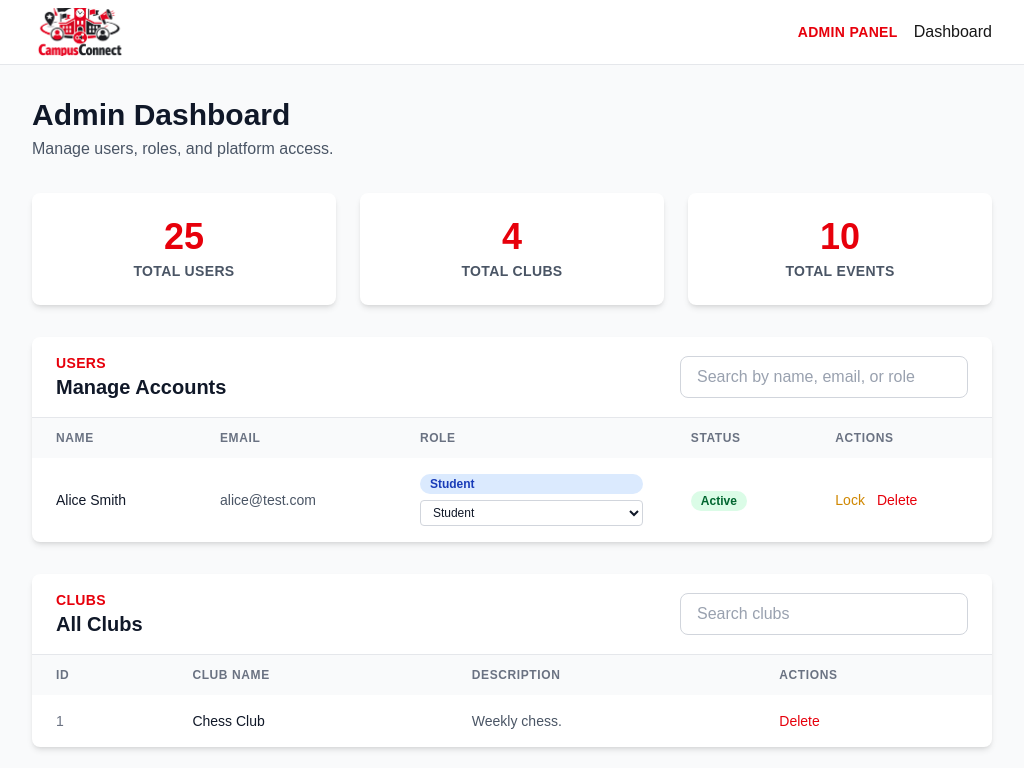
Scenario: AdminDashboardPage › TC-131 [S-12]: filters users using the search box
Type "bob" into the field with placeholder "Search by name, email, or role".
click(824, 377); type("bob")  # box [680,356,968,398]
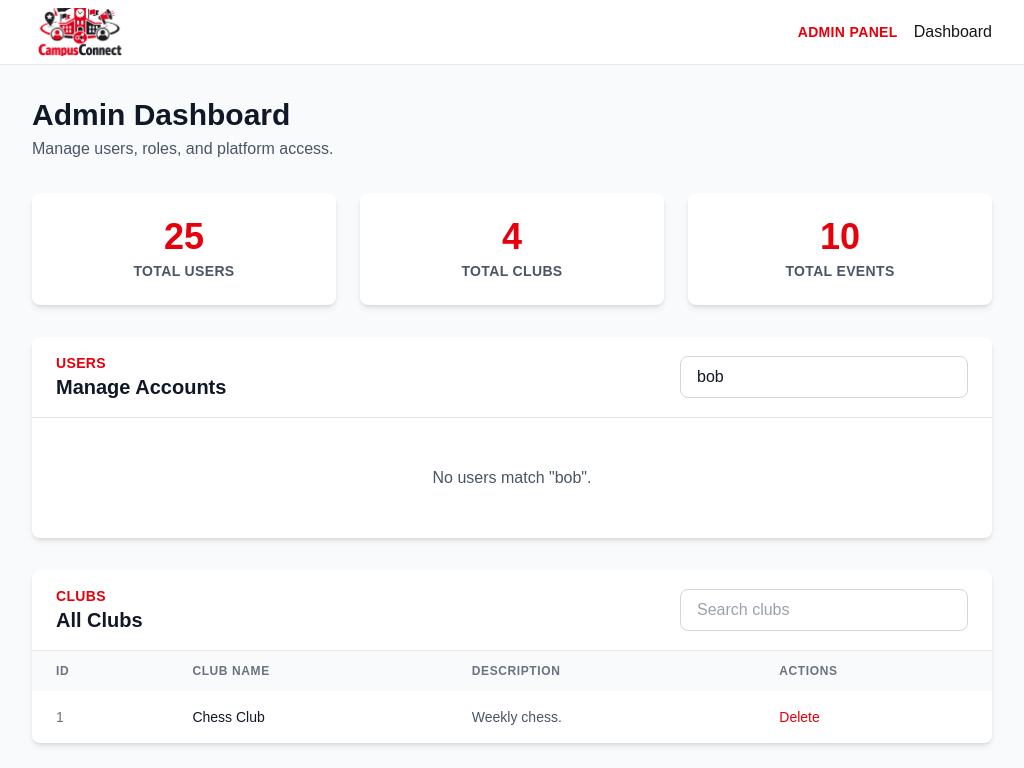
expect the text "No users match \"bob\"." is shown: met, box [432,469,592,486]
